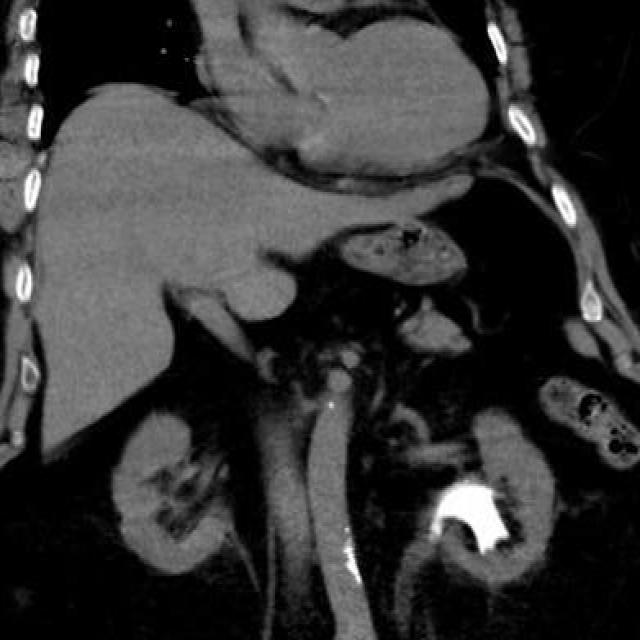Tas_Var: (436, 465, 518, 565), (422, 511, 448, 547)
